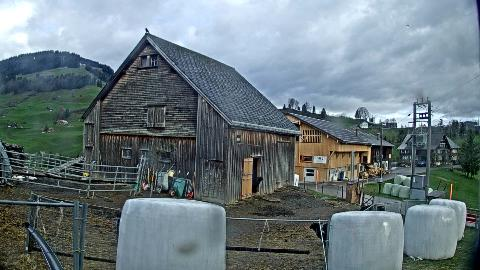car: (418, 161, 426, 167)
sheep: (309, 219, 329, 246), (252, 178, 264, 193)
